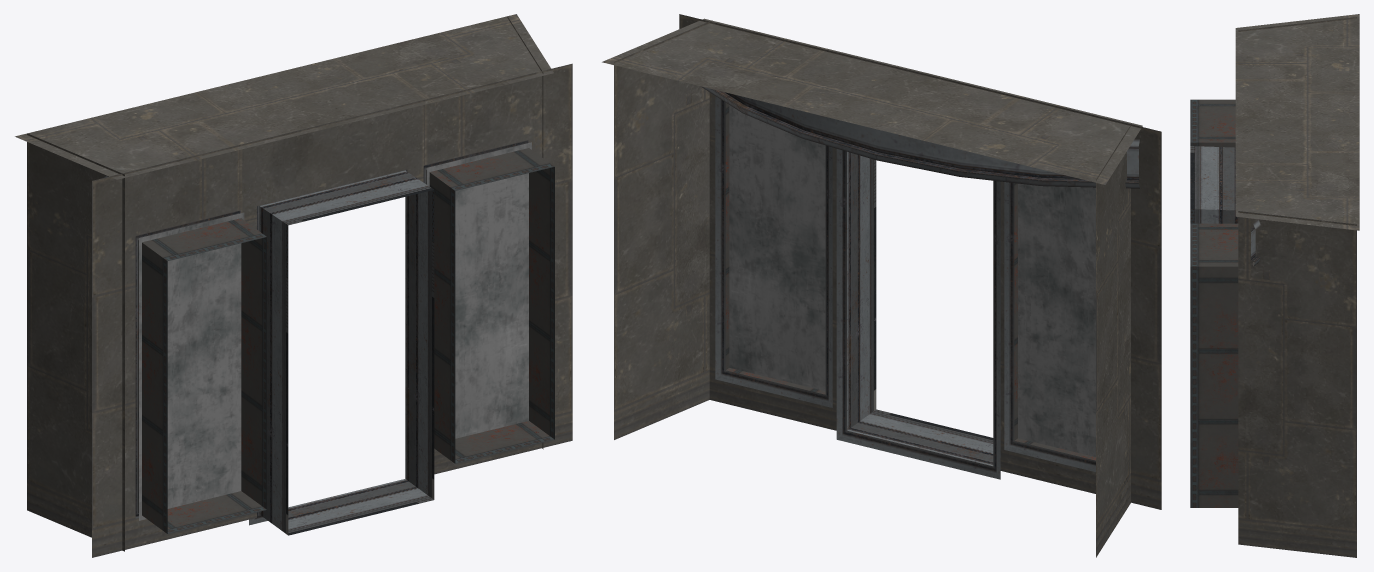
Rendered from ARC0910075.fbx.
3 renders of one model, left to right at view 1: azimuth 30°, elevation 25°; view 2: azimuth 150°, elevation 25°; view 3: azimuth 270°, elevation 25°, orthographic. The views are drawn at different scales.
Visible parts, largest first — view 1: smARC0910075; view 2: smARC0910075; view 3: smARC0910075.
Boxes of the visible parts, left/top/right/bottom form: smARC0910075: left=15, top=14, right=572, bottom=557; smARC0910075: left=602, top=14, right=1161, bottom=557; smARC0910075: left=1190, top=14, right=1359, bottom=557.
Bounding box in the file's own units: 418 × 306 × 138.
Materials: 1 (1 with a texture image).
